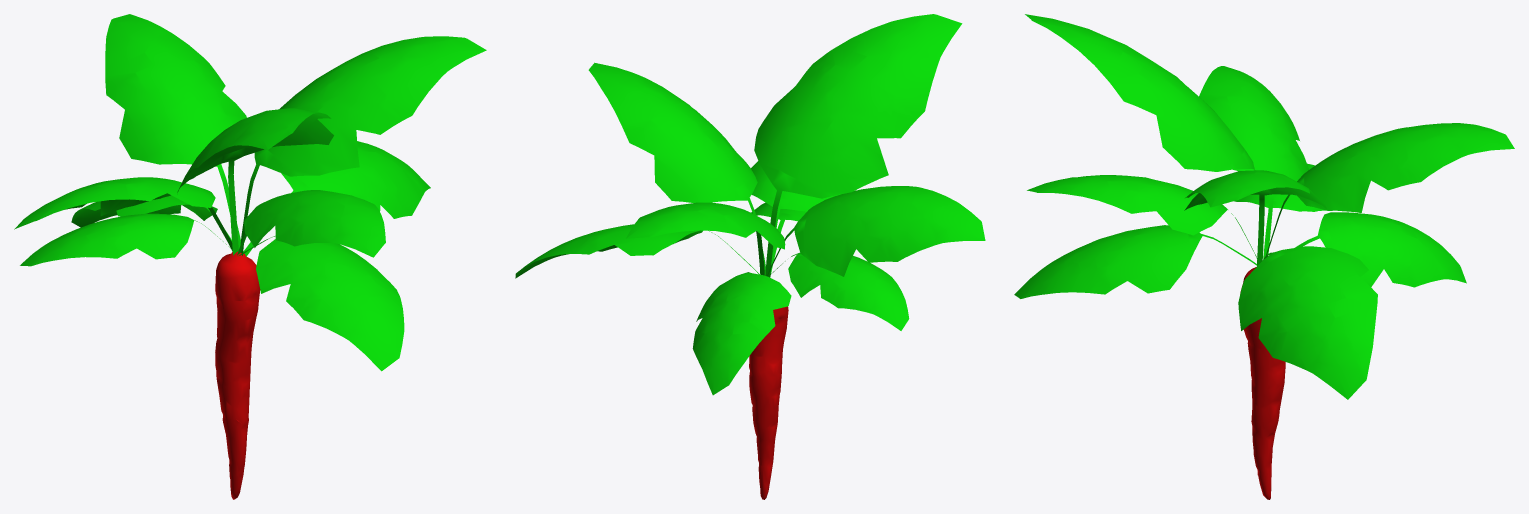
Rendered from SM_Carrotia_01.FBX.
3 renders of one model, left to right at view 1: azimuth 30°, elevation 25°; view 2: azimuth 150°, elevation 25°; view 3: azimuth 270°, elevation 25°, orthographic. The views are drawn at different scales.
Visible parts, largest first — view 1: SM_Carrotia_01; view 2: SM_Carrotia_01; view 3: SM_Carrotia_01.
Boxes of the visible parts, x1,y1,x2,y2 form: SM_Carrotia_01: [14, 14, 486, 499]; SM_Carrotia_01: [515, 14, 985, 499]; SM_Carrotia_01: [1014, 14, 1514, 499].
Bounding box in the file's own units: 419 × 405 × 400.
